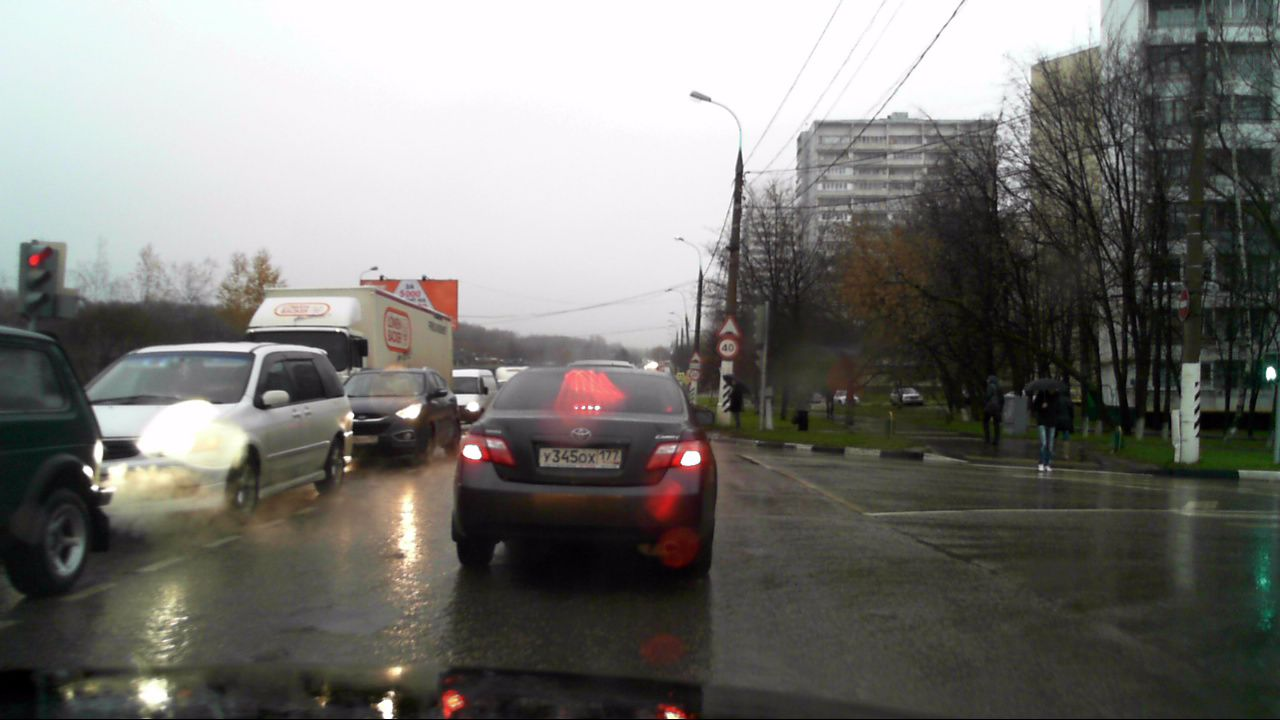speed_warning_40: (718, 338, 737, 357)
